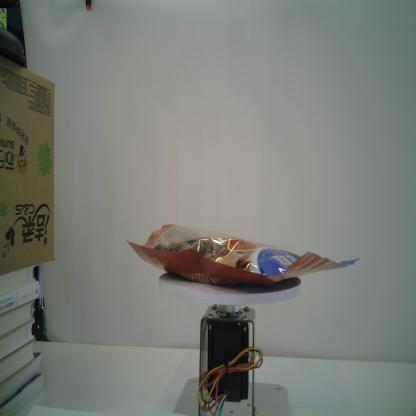Dried Food: (126, 223, 360, 289)
